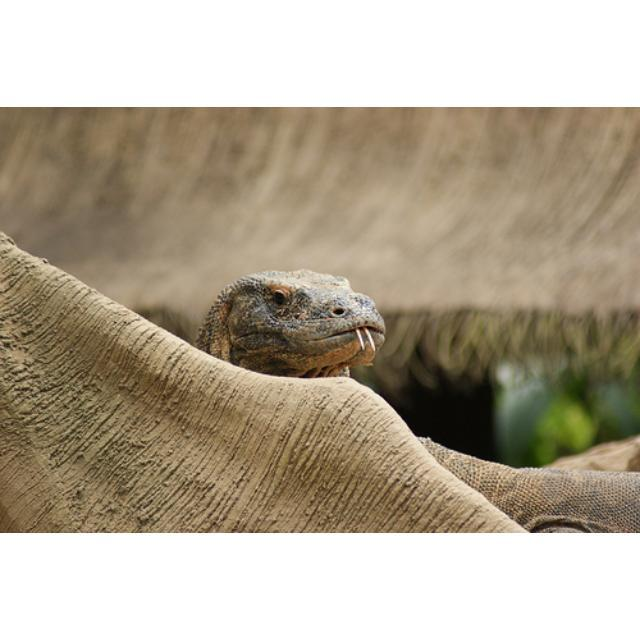KomodoDragon: (205, 267, 385, 384)
